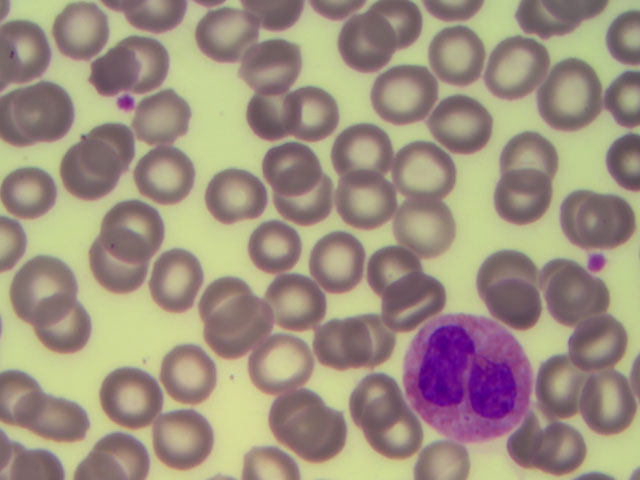Platelets: (588, 249, 610, 271), (115, 92, 137, 113)
RBC: (137, 92, 191, 144), (131, 39, 185, 91), (89, 41, 143, 93), (50, 1, 104, 53), (28, 91, 82, 143), (2, 26, 56, 78), (55, 137, 109, 189), (85, 113, 139, 165), (137, 152, 191, 204), (106, 200, 160, 252), (90, 242, 144, 294), (18, 261, 72, 313), (5, 171, 59, 223), (40, 308, 94, 360), (146, 254, 200, 306), (189, 273, 243, 325), (211, 298, 265, 350), (161, 344, 215, 396), (104, 368, 158, 420), (153, 415, 207, 467), (100, 425, 154, 477), (31, 392, 85, 444), (1, 374, 55, 426), (257, 386, 311, 438), (293, 409, 347, 461), (249, 338, 303, 390), (265, 281, 319, 333), (246, 221, 300, 273), (204, 167, 258, 219), (262, 170, 316, 222), (264, 143, 318, 195), (288, 84, 342, 136), (258, 80, 312, 132), (235, 39, 289, 91), (201, 11, 255, 63), (332, 115, 386, 167), (333, 174, 387, 226), (401, 141, 455, 193), (443, 96, 497, 148), (385, 68, 439, 120), (422, 25, 476, 77), (340, 19, 394, 71), (371, 3, 425, 55), (494, 40, 548, 92), (546, 72, 600, 124), (505, 124, 559, 176), (490, 174, 544, 226), (553, 190, 607, 242), (581, 194, 635, 246), (536, 255, 590, 307), (488, 277, 542, 329), (477, 246, 531, 298), (384, 275, 438, 327), (361, 246, 415, 298), (317, 239, 371, 291), (396, 195, 450, 247), (308, 317, 362, 369), (343, 312, 397, 364), (346, 363, 400, 415), (366, 402, 420, 454), (419, 428, 473, 480), (496, 415, 550, 467), (537, 423, 591, 475), (586, 368, 640, 420), (536, 358, 590, 410), (568, 312, 622, 364), (555, 277, 609, 329)
WBC: (412, 315, 536, 434)
